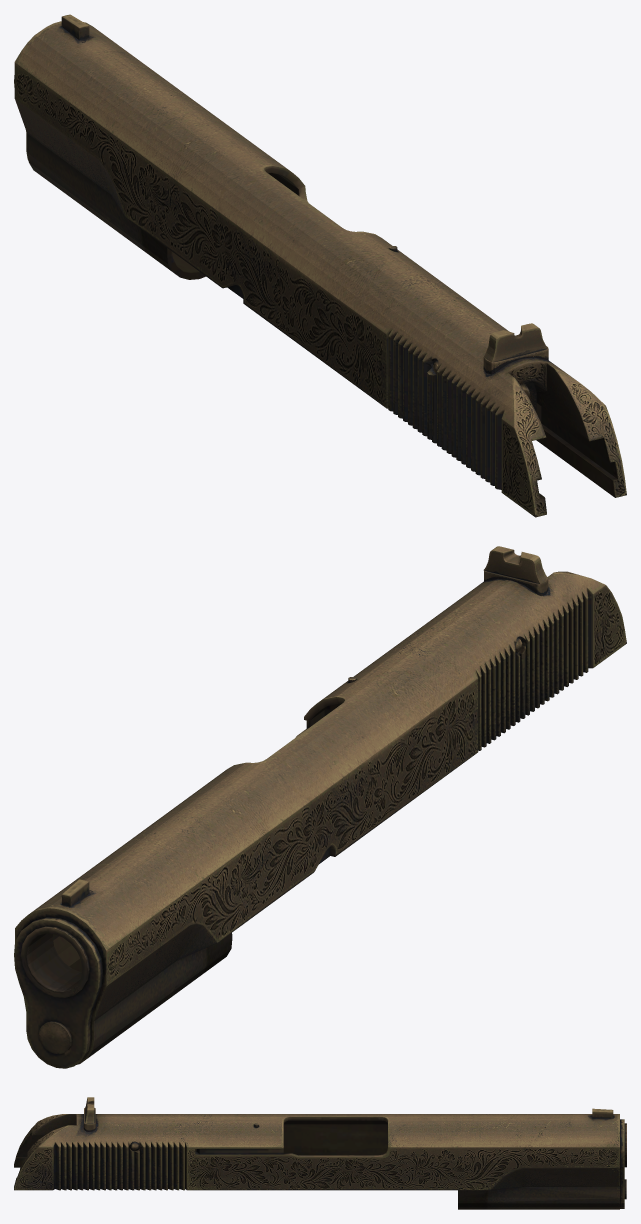
3 views of the same model, one above another, from view 1: azimuth 30°, elevation 25°; view 2: azimuth 150°, elevation 25°; view 3: azimuth 270°, elevation 25° (orthographic). The views are drawn at different scales.
Visible parts, largest first — view 1: TW_5b3b713c5acfc4330140bd8d_PZ_Import; view 2: TW_5b3b713c5acfc4330140bd8d_PZ_Import; view 3: TW_5b3b713c5acfc4330140bd8d_PZ_Import.
Part boxes in pixels (x1=…): TW_5b3b713c5acfc4330140bd8d_PZ_Import: x1=14, y1=14, x2=626, y2=517; TW_5b3b713c5acfc4330140bd8d_PZ_Import: x1=14, y1=546, x2=626, y2=1068; TW_5b3b713c5acfc4330140bd8d_PZ_Import: x1=14, y1=1097, x2=626, y2=1209.
Bounding box in the file's own units: 0.0112 × 0.1111 × 0.0209.
Materials: 1 (1 with a texture image).
